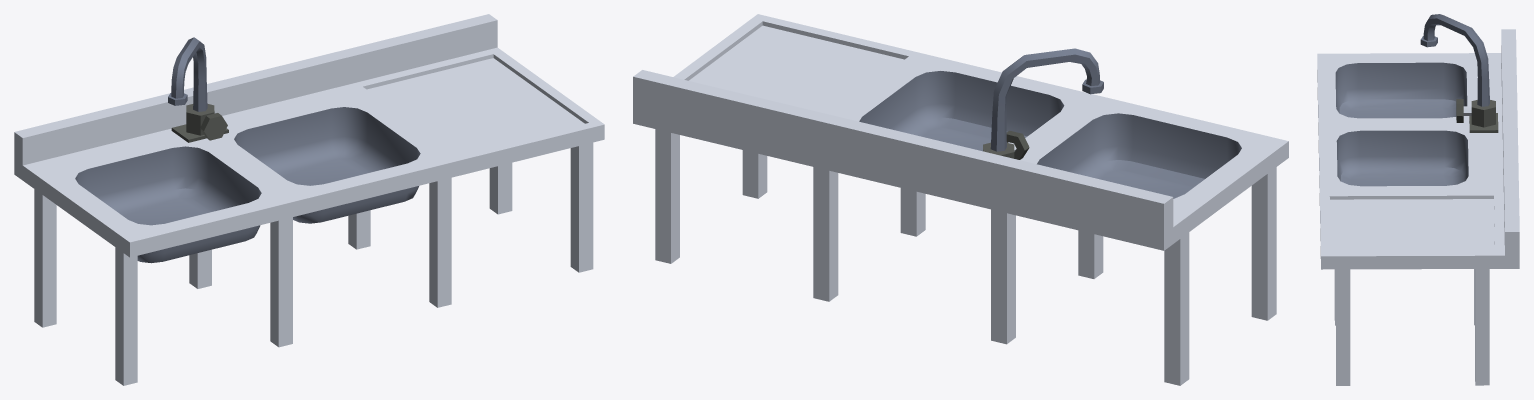
File: Sink_Counter.glb
3 views of the same model, side by side, from view 1: azimuth 30°, elevation 25°; view 2: azimuth 150°, elevation 25°; view 3: azimuth 270°, elevation 25° (orthographic). The views are drawn at different scales.
Parts seen in each view (by area): view 1: Sink; view 2: Sink; view 3: Sink.
Part boxes in pixels (<box>): Sink: <box>14,14,604,385</box>; Sink: <box>633,14,1288,385</box>; Sink: <box>1317,14,1519,385</box>.
Size of what is drawn, in the model's own units: 3.24 by 1.66 by 1.37.
Materials: 1 (1 with a texture image).
